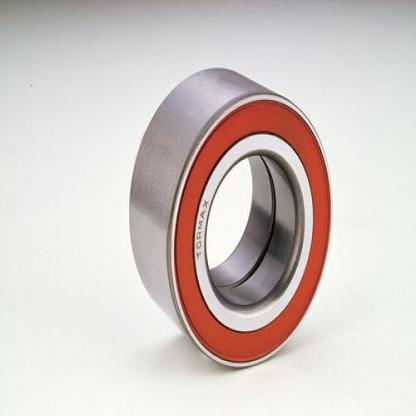FOD: (126, 63, 334, 374)
